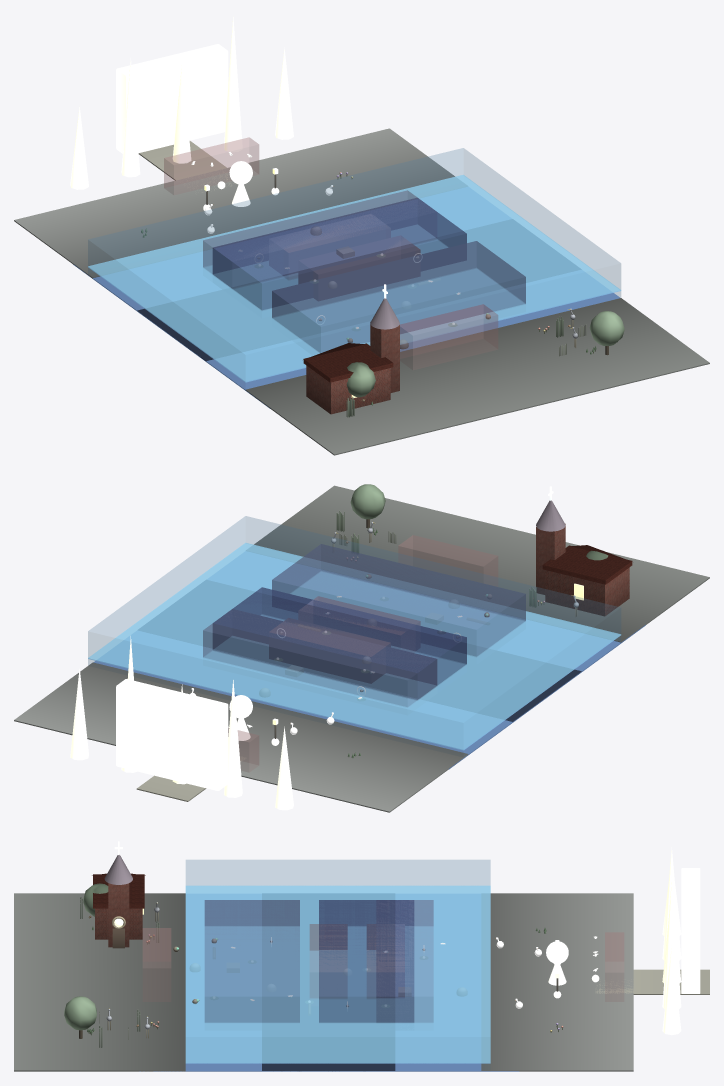
File: river_of_death.glb
3 views of the same model, one above another, from view 1: azimuth 30°, elevation 25°; view 2: azimuth 150°, elevation 25°; view 3: azimuth 270°, elevation 25° (orthographic). The views are drawn at different scales.
Visible parts, largest first — view 1: COL_RiverWater, ENV_River_WaterSurface, ENV_River_NearBank, ENV_River_FarBank, ENV_River_WaterPlane, COL_RiverFearZone, COL_RiverDeepZone, ENV_River_DeepChannel, PROP_DistantCelestialGate, COL_RiverMemoryPromptZone, VIS_PROP_Chapel (×3), TRIGGER_EnterRiver (+10 smaller); view 2: COL_RiverWater, ENV_River_WaterSurface, ENV_River_NearBank, ENV_River_FarBank, ENV_River_DeepChannel, ENV_River_WaterPlane, COL_RiverDeepZone, COL_RiverFearZone, COL_RiverMemoryPromptZone, PROP_DistantCelestialGate, VIS_PROP_Chapel (×4), TRIGGER_EnterRiver (+8 smaller); view 3: COL_RiverWater, ENV_River_WaterSurface, ENV_River_NearBank, ENV_River_FarBank, ENV_River_WaterPlane, COL_RiverFearZone, COL_RiverDeepZone, ENV_River_DeepChannel, COL_RiverMemoryPromptZone, VIS_PROP_Chapel (×4), PROP_DistantCelestialGate, TRIGGER_EnterRiver (+10 smaller).
Part boxes in pixels (x1,y1,x2,y2): COL_RiverWater: (88,148,620,388); ENV_River_WaterSurface: (88,175,621,382); ENV_River_NearBank: (246,298,709,455); ENV_River_FarBank: (14,128,466,278); ENV_River_WaterPlane: (73,187,619,408); COL_RiverFearZone: (272,241,525,352); COL_RiverDeepZone: (212,198,466,310); ENV_River_DeepChannel: (137,219,580,361); PROP_DistantCelestialGate: (116,44,228,153); COL_RiverMemoryPromptZone: (203,190,435,273); VIS_PROP_Chapel (×3): (303,321,399,414); TRIGGER_EnterRiver: (400,304,497,369); COL_RiverWater: (88,516,620,756); ENV_River_WaterSurface: (88,543,621,750); ENV_River_NearBank: (254,485,709,642); ENV_River_FarBank: (14,662,468,812); ENV_River_DeepChannel: (139,580,581,721); ENV_River_WaterPlane: (93,551,645,769); COL_RiverDeepZone: (213,587,466,699); COL_RiverFearZone: (272,544,525,656); COL_RiverMemoryPromptZone: (203,609,436,706); PROP_DistantCelestialGate: (116,679,228,790); VIS_PROP_Chapel (×4): (536,500,632,616); TRIGGER_EnterRiver: (398,535,497,586); COL_RiverWater: (186,860,490,1070); ENV_River_WaterSurface: (185,885,490,1063); ENV_River_NearBank: (14,893,185,1071); ENV_River_FarBank: (481,893,633,1071); ENV_River_WaterPlane: (139,894,519,1071); COL_RiverFearZone: (204,900,299,1022); COL_RiverDeepZone: (319,900,414,1022); ENV_River_DeepChannel: (262,894,395,1071); COL_RiverMemoryPromptZone: (376,900,433,1022); VIS_PROP_Chapel (×4): (93,855,144,947); PROP_DistantCelestialGate: (681,868,700,993); TRIGGER_EnterRiver: (143,928,170,1001).
Bounding box in the file's own units: 44 × 15.5 × 73.
Materials: 68 (2 with a texture image).
